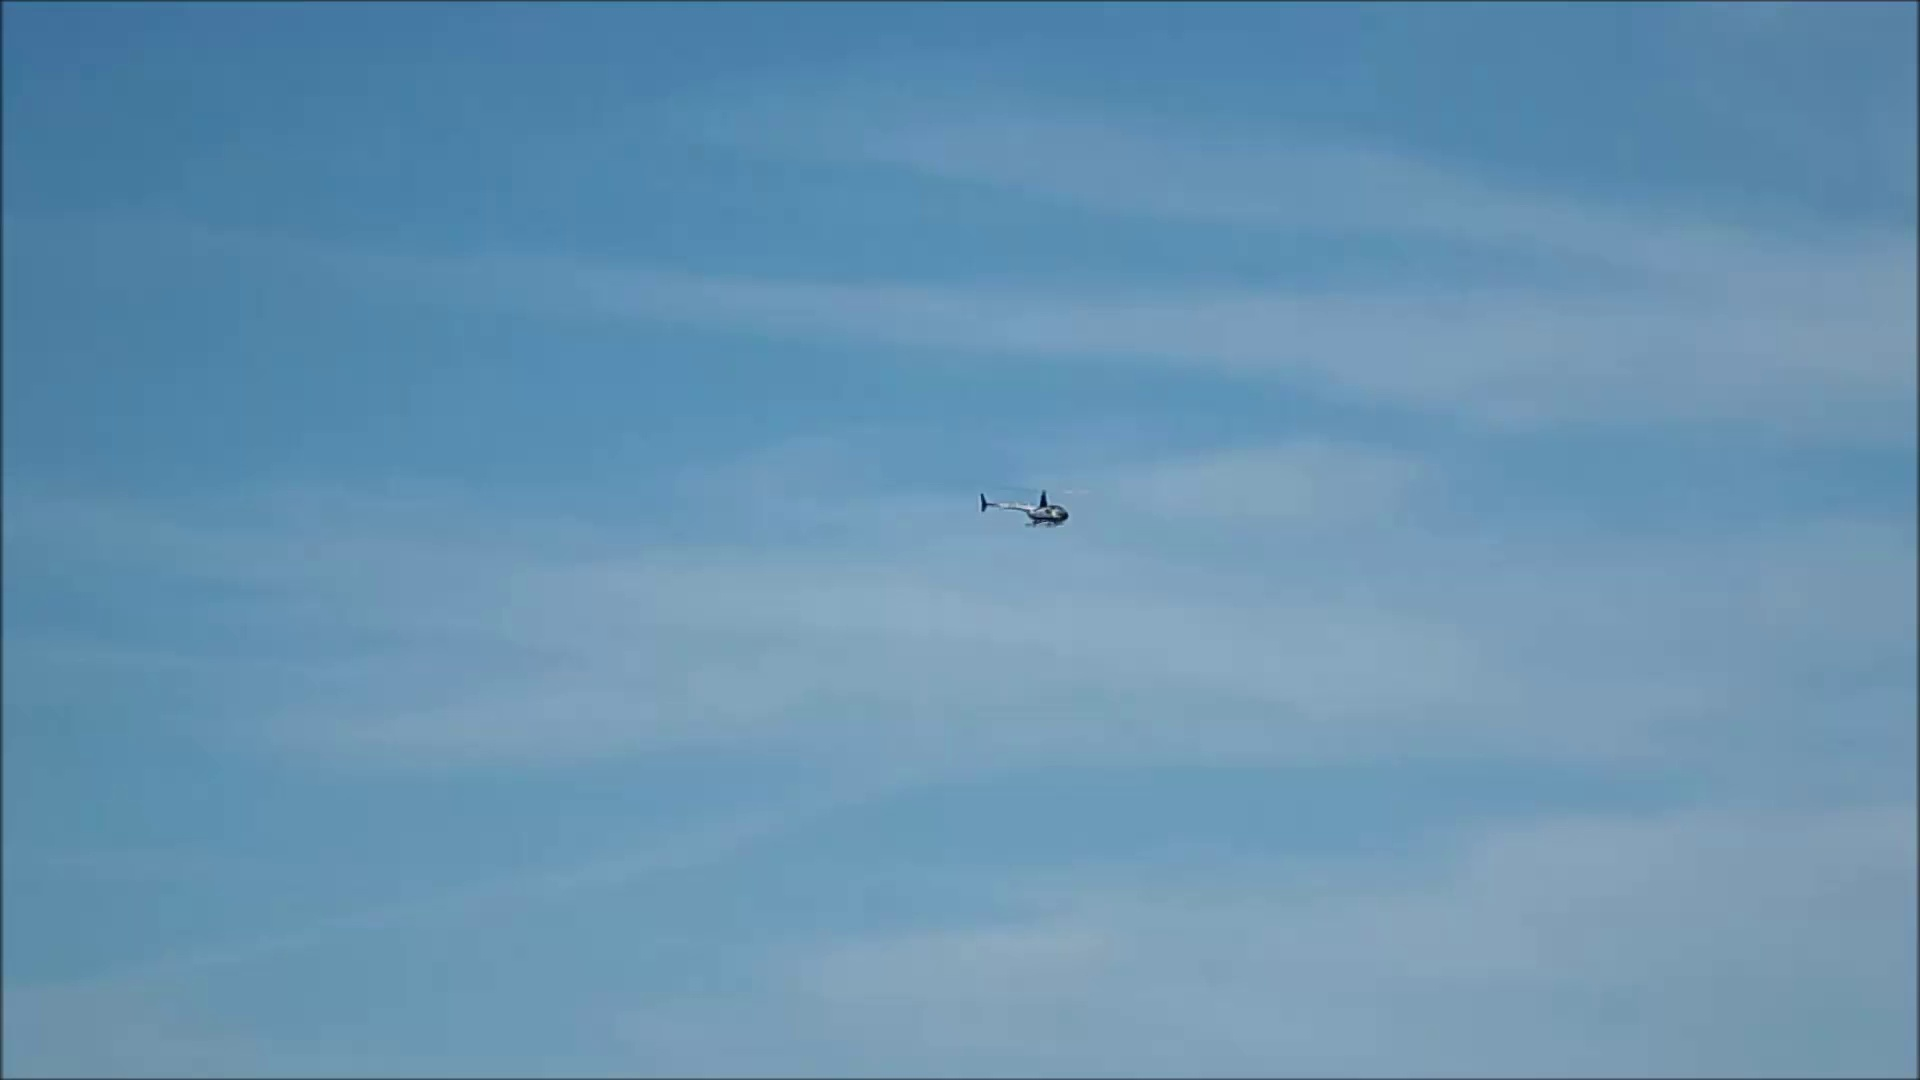heli: (978, 481, 1085, 529)
